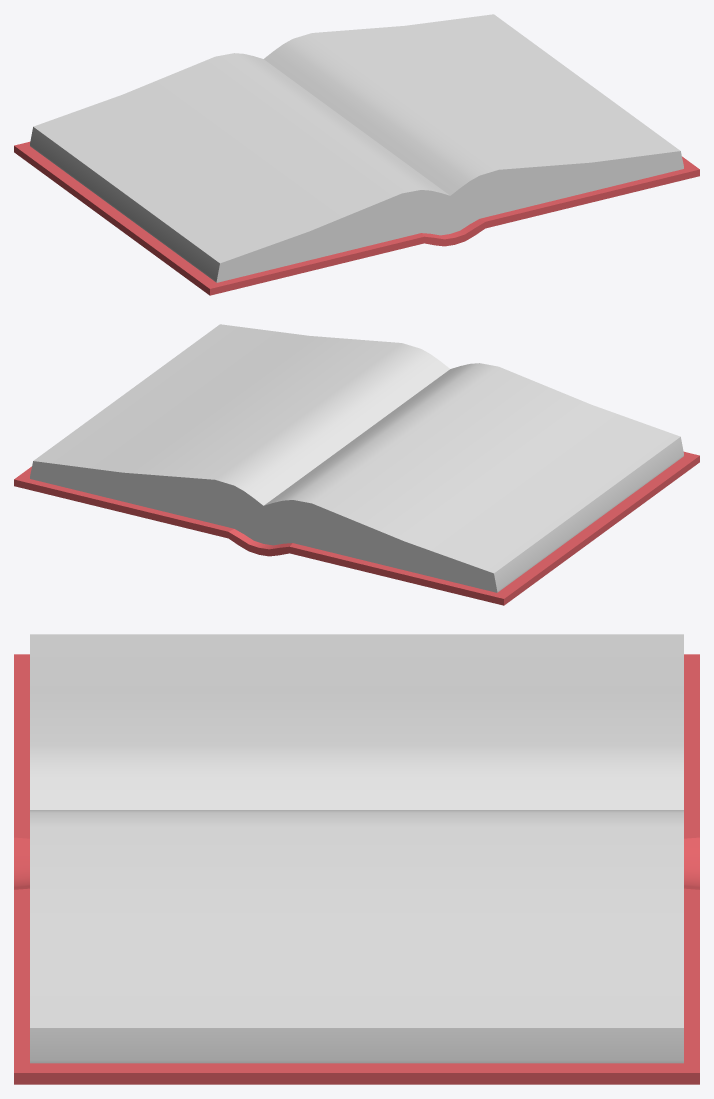
File: mdl_diary.fbx
3 views of the same model, one above another, from view 1: azimuth 30°, elevation 25°; view 2: azimuth 150°, elevation 25°; view 3: azimuth 270°, elevation 25° (orthographic). The views are drawn at different scales.
Visible parts, largest first — view 1: mdl_book; view 2: mdl_book; view 3: mdl_book.
Boxes of the visible parts, box(x1,y1,x2,y2) form: mdl_book: box(14, 14, 699, 295); mdl_book: box(14, 324, 699, 605); mdl_book: box(14, 634, 699, 1084).
Bounding box in the file's own units: 0.27 × 0.0315 × 0.187.
